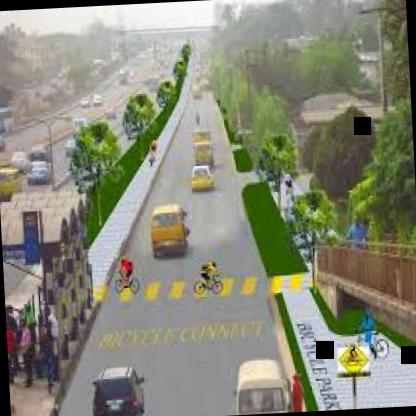car: (77, 345, 161, 416), (222, 352, 292, 415), (140, 199, 196, 264), (182, 160, 218, 192), (31, 156, 52, 186)
